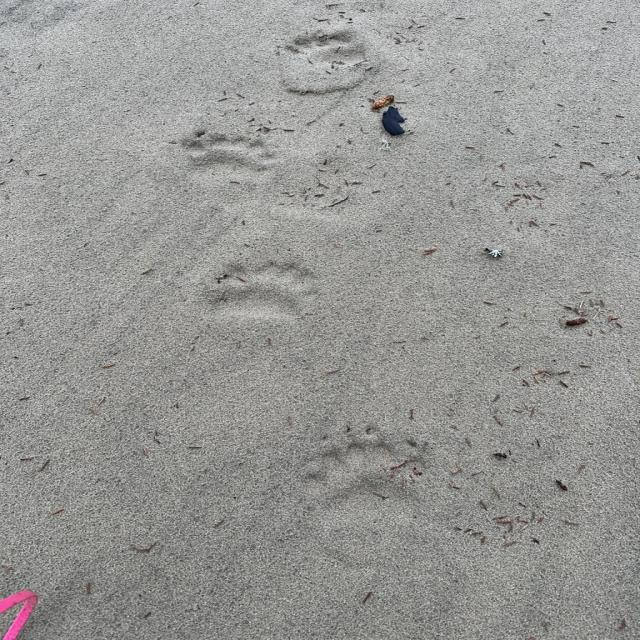bear: (302, 426, 430, 530), (217, 259, 313, 326), (185, 128, 272, 188), (286, 30, 362, 69)
